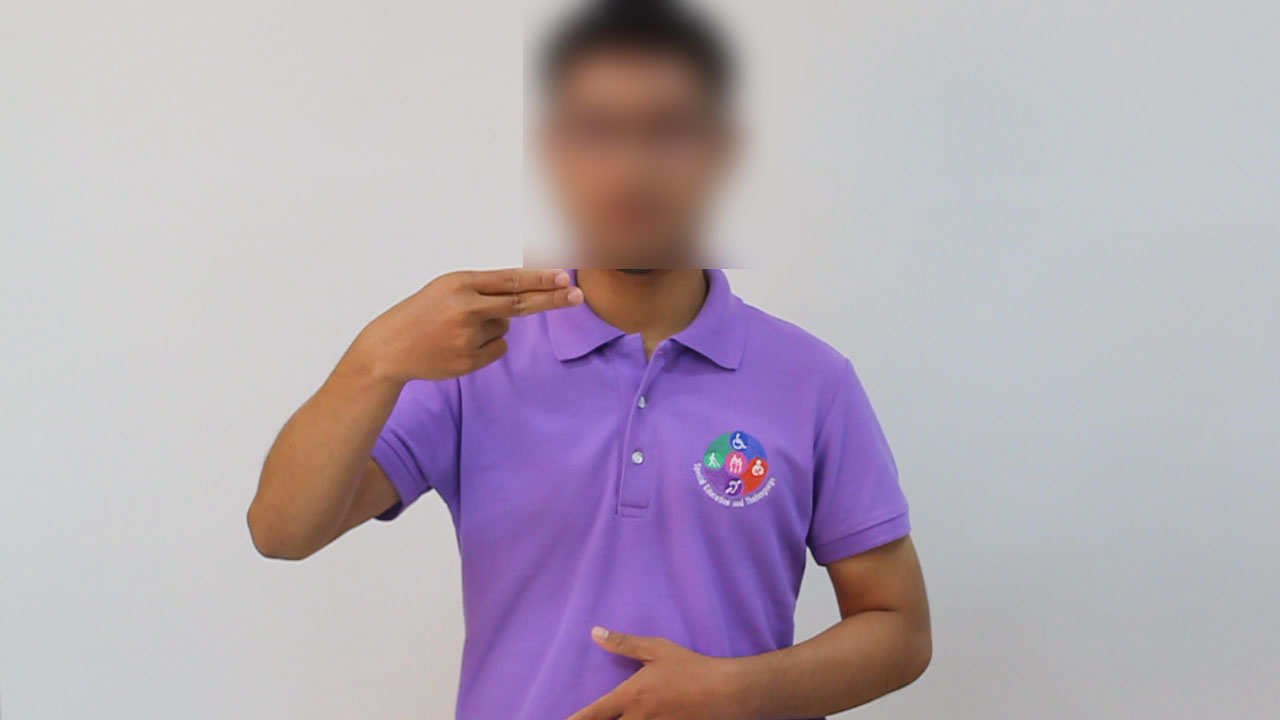hor: (337, 257, 591, 389)
